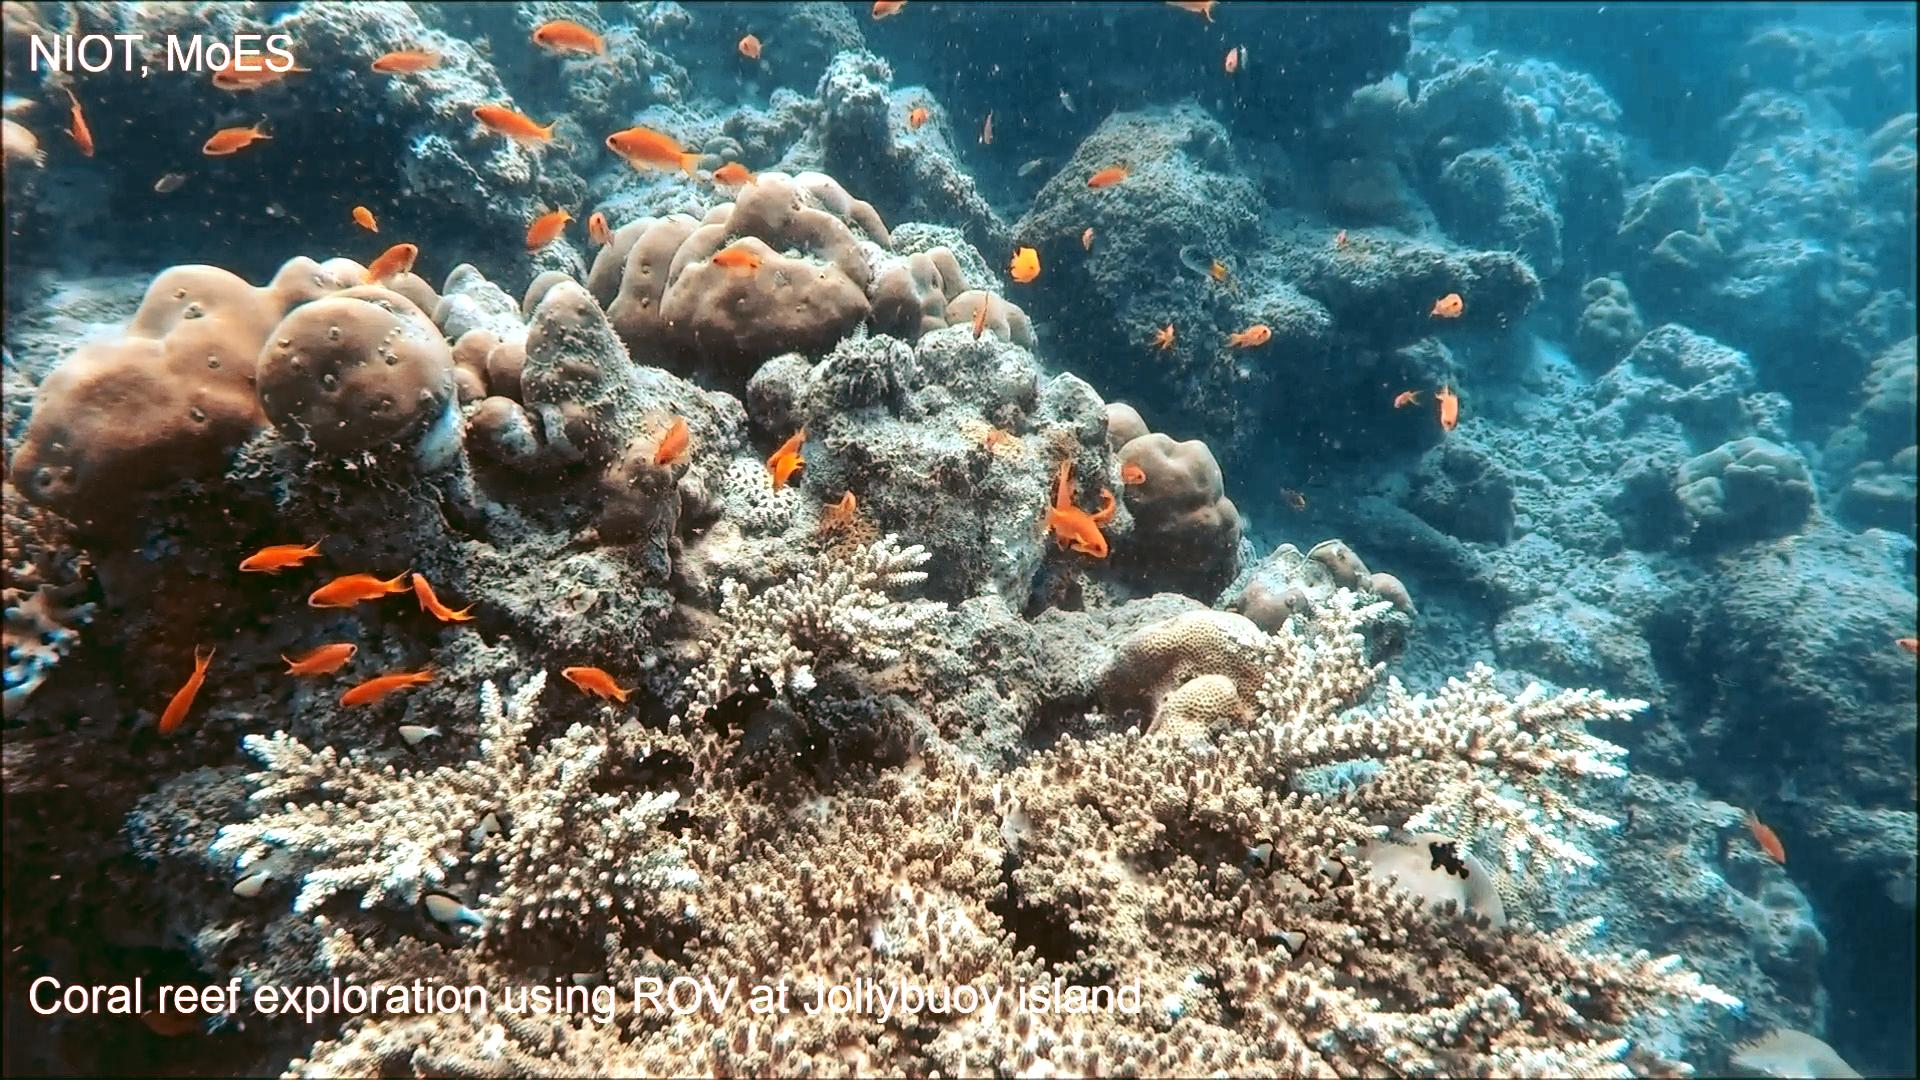Porites-Porites pukoensis: (0, 248, 463, 539), (564, 162, 1047, 367)
